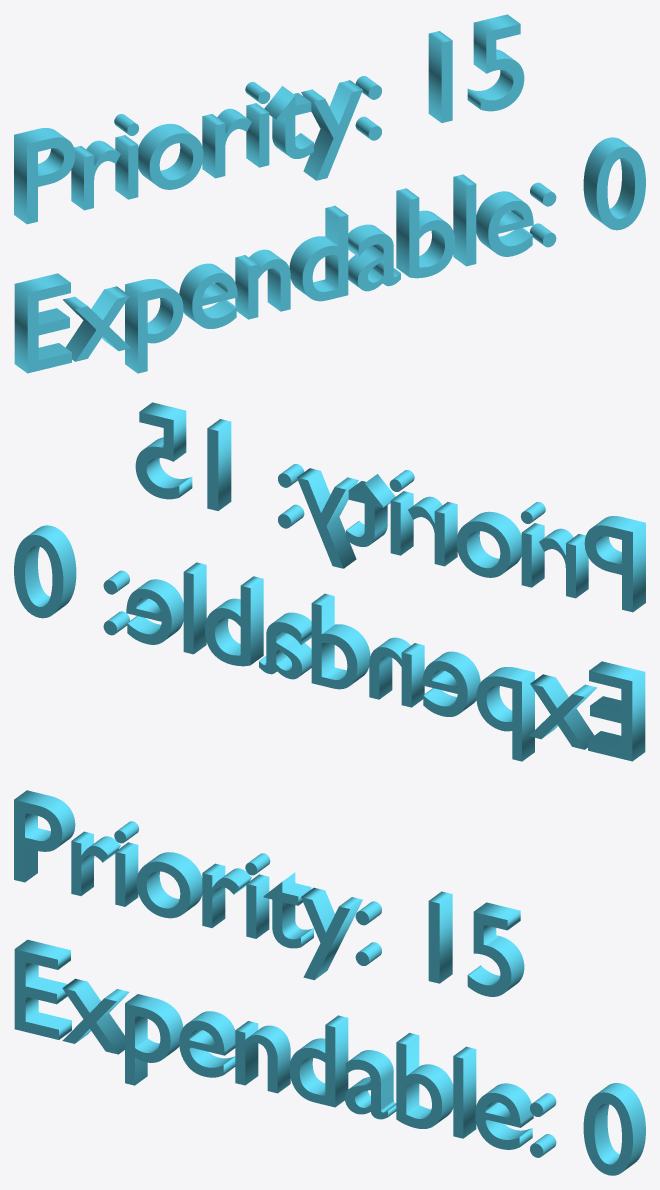
Rendered from console_test_015_result.fbx.
3 views of the same model, one above another, from view 1: azimuth 30°, elevation 25°; view 2: azimuth 150°, elevation 25°; view 3: azimuth 330°, elevation 25° (orthographic).
Parts seen in each view (by area): view 1: Txt_Test_01.010, Txt_Test_01.009; view 2: Txt_Test_01.010, Txt_Test_01.009; view 3: Txt_Test_01.010, Txt_Test_01.009.
Boxes of the visible parts, bbox=[...] form: Txt_Test_01.010: bbox=[14, 137, 645, 373]; Txt_Test_01.009: bbox=[14, 14, 524, 224]; Txt_Test_01.010: bbox=[14, 525, 645, 761]; Txt_Test_01.009: bbox=[135, 402, 645, 612]; Txt_Test_01.010: bbox=[14, 939, 645, 1175]; Txt_Test_01.009: bbox=[14, 790, 524, 996].
Size of the model in its own units: 0.7433 by 0.2943 by 0.027.
